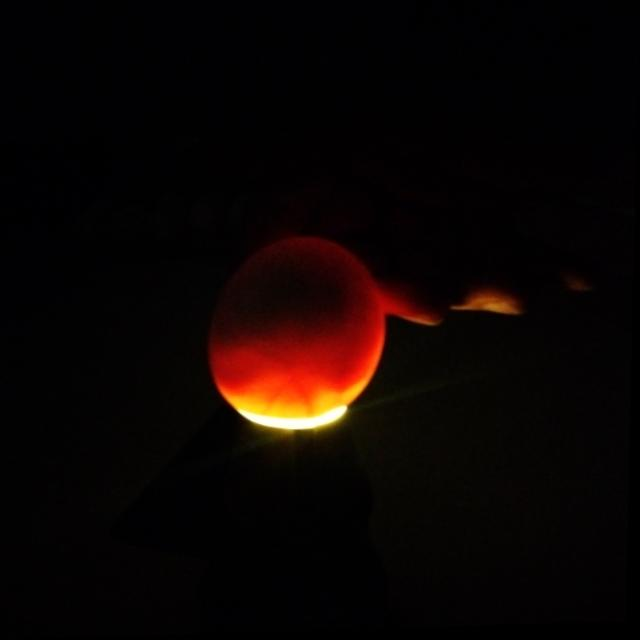Embriao: (209, 248, 375, 348)
